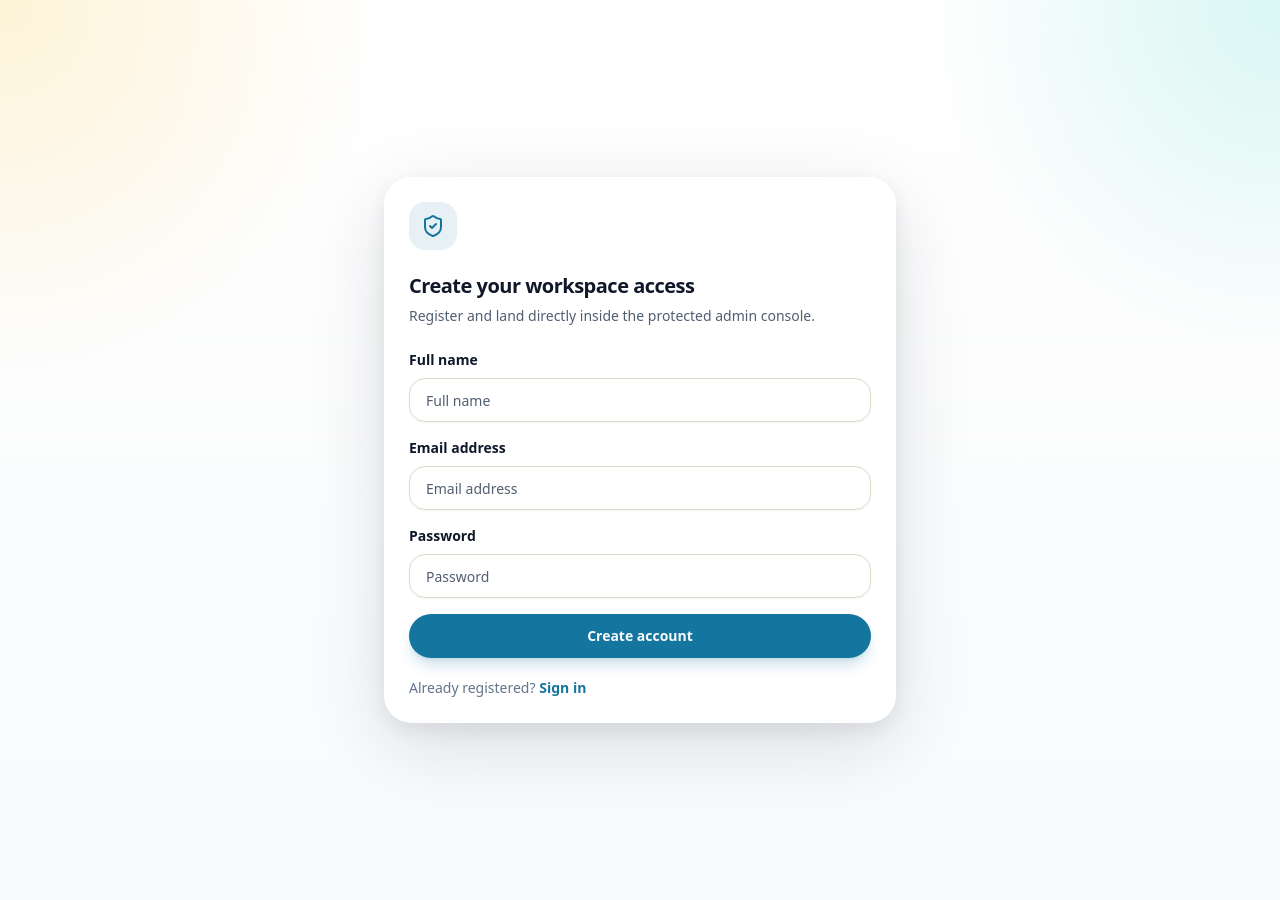
Test: AuthForm › shows inline validation for invalid registration input
What coordinates should you click on to do the following:
click the button "Create account"
I would click on:
 (640, 636)
Its box is [409,614,871,658].
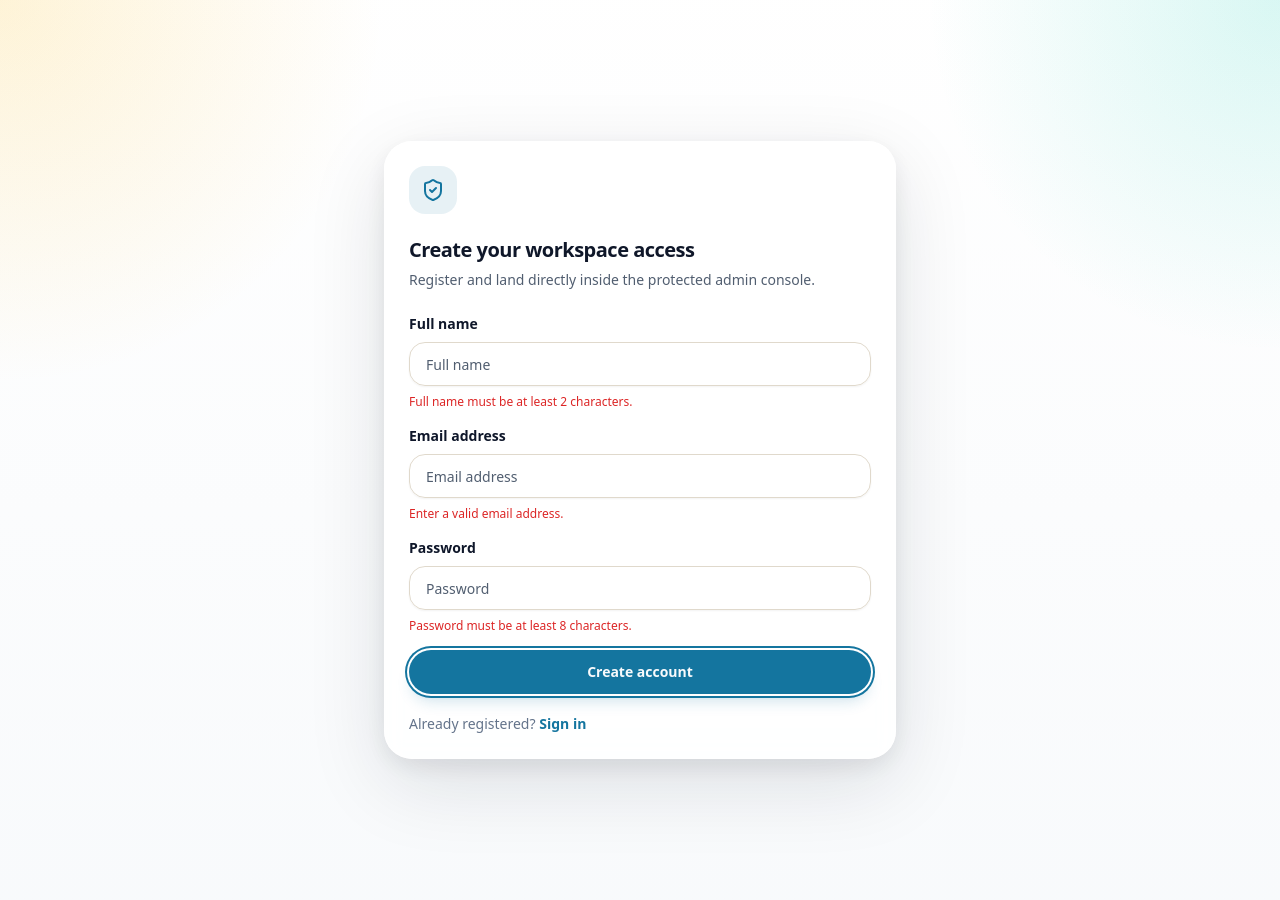
Expected: the text "Full name must be at least 2 characters." is shown, [409,393,632,410]
Expected: the text "Enter a valid email address." is shown, [409,505,563,522]
Expected: the text "Password must be at least 8 characters." is shown, [409,617,632,634]
